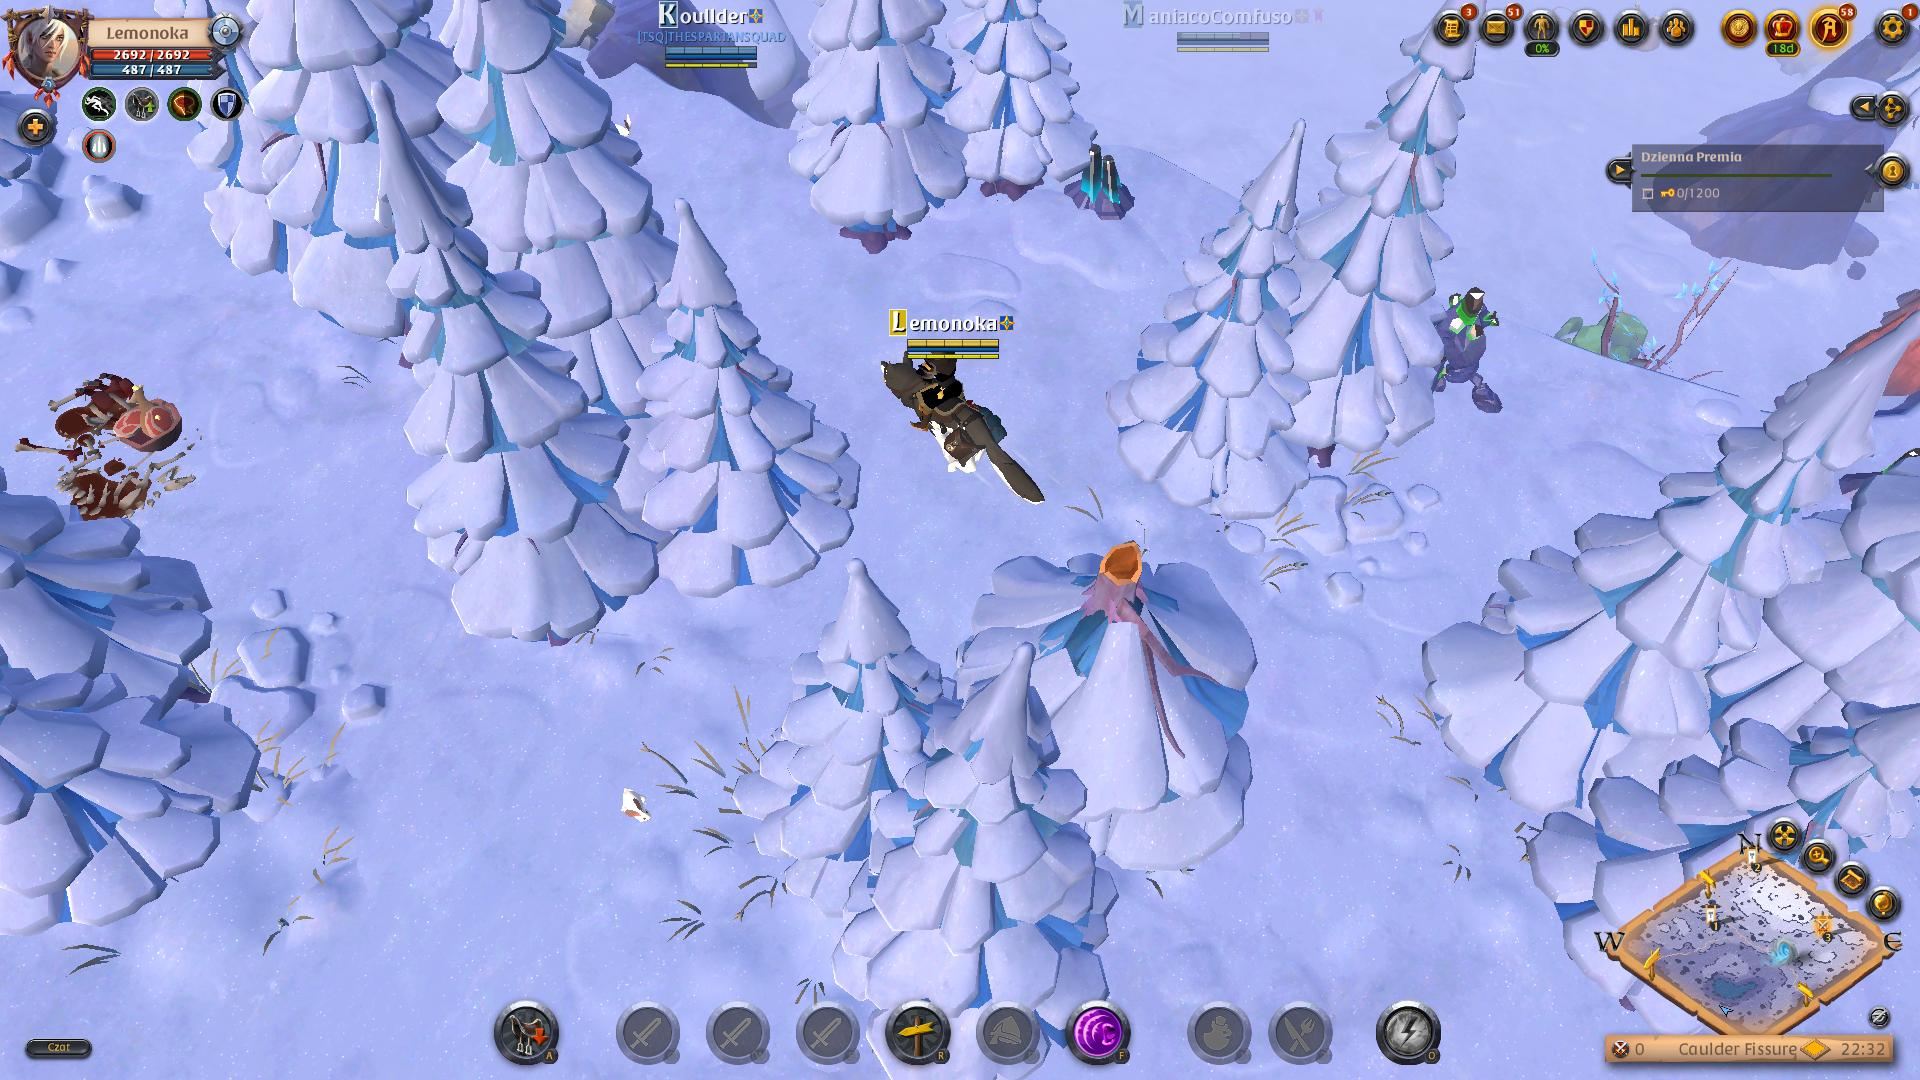ore tier 4: (1062, 144, 1137, 225)
